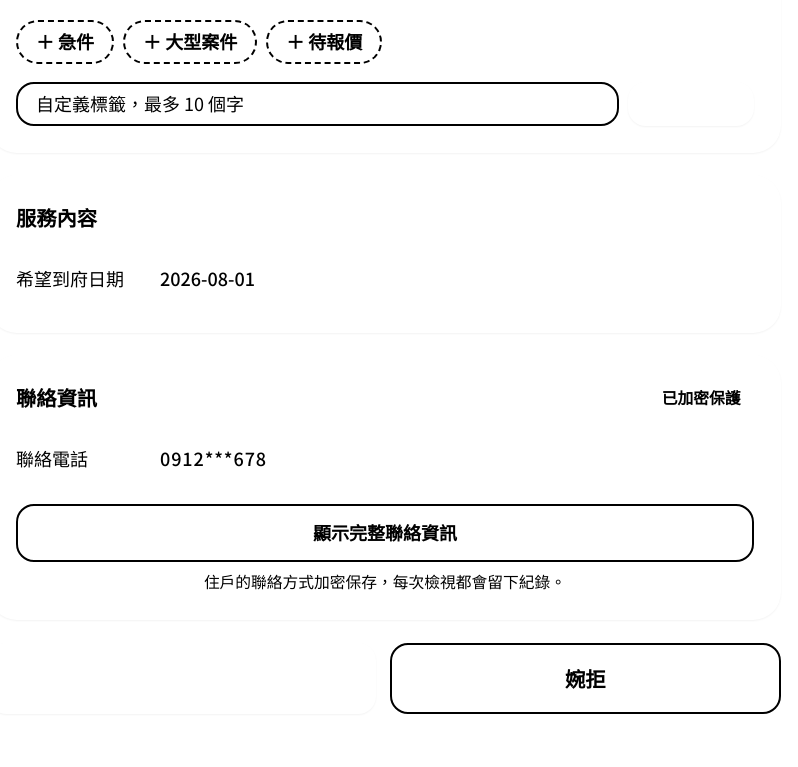
it: VendorRequestDetailPage 聯絡資訊 › 解密失敗時保留遮罩並顯示錯誤
(page scrolled)
Click the button "顯示完整聯絡資訊" at (385, 532), box left=16, top=504, right=754, bottom=562
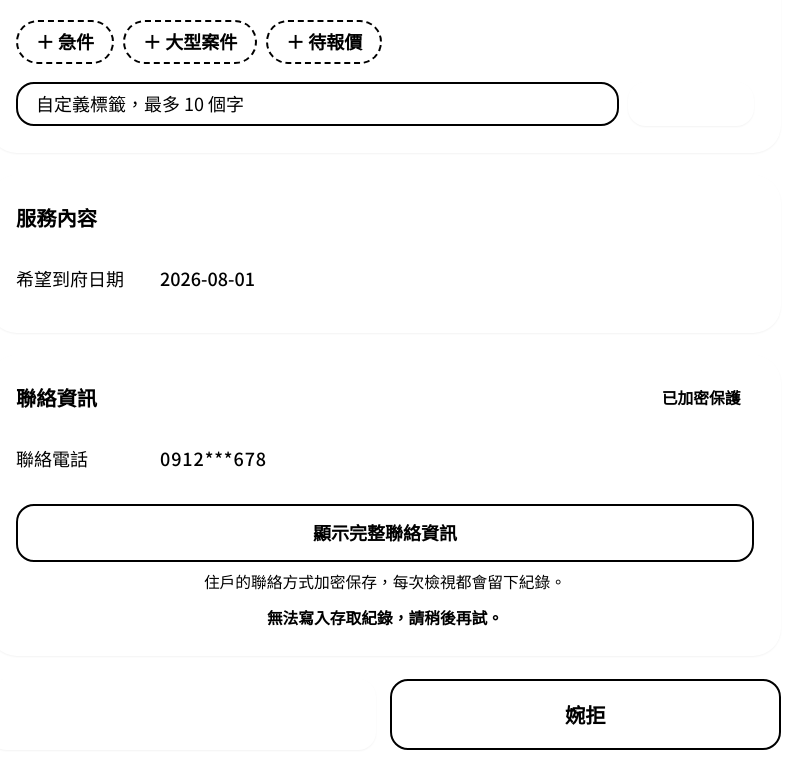
Expected: the text "0912***678" is shown, left=160, top=445, right=267, bottom=471
Now the message reads "無法寫入存取紀錄，請稍後再試。", box left=267, top=606, right=503, bottom=628
